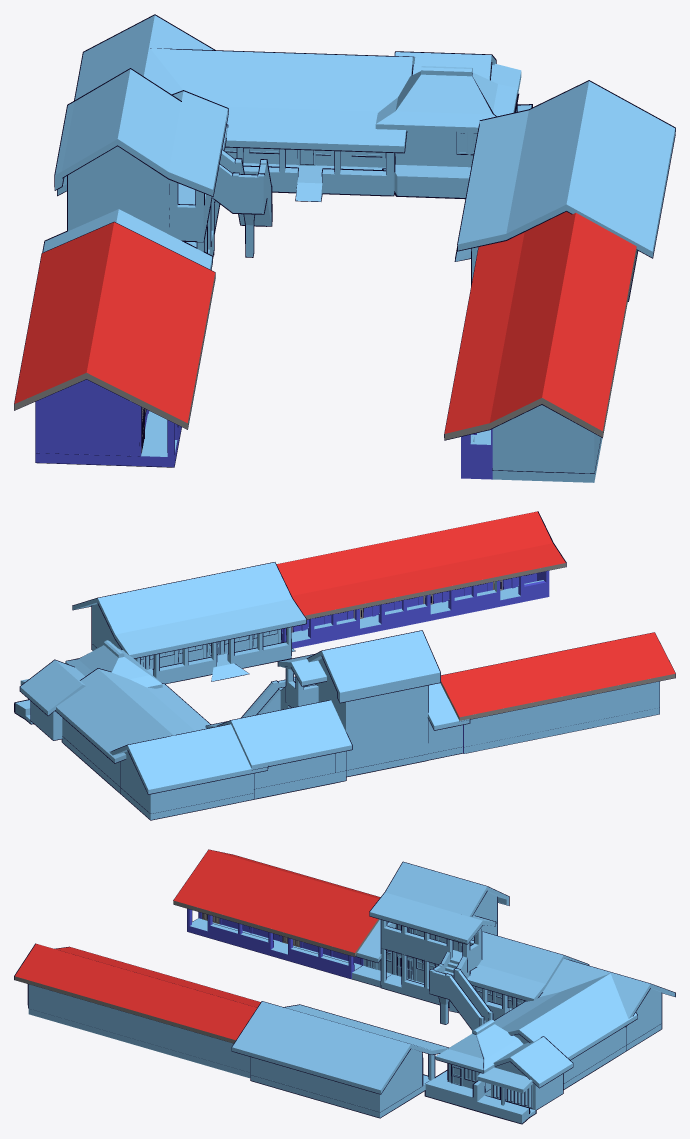
File: Models2.glb
3 renders of one model, top to bottom at view 1: azimuth 30°, elevation 25°; view 2: azimuth 150°, elevation 25°; view 3: azimuth 270°, elevation 25°, orthographic. The views are drawn at different scales.
Parts seen in each view (by area): view 1: GedungA, Cube.006, GedungA1, Cube.001, Cube.004, Cube, Cube.002, Cube.005, Cube.007; view 2: GedungA, GedungA1, Cube.006, Cube.004, Cube.002, Cube.001, Cube.003, Cube.007, Cube, Cube.005; view 3: GedungA, Cube.006, GedungA1, Cube.004, Cube.001, Cube, Cube.003, Cube.007, Cube.002, Cube.005.
Part boxes in pixels (left/top/right/bottom): GedungA: left=444, top=211, right=636, bottom=482; Cube.006: left=14, top=221, right=215, bottom=467; GedungA1: left=454, top=80, right=675, bottom=301; Cube.001: left=150, top=48, right=414, bottom=201; Cube.004: left=54, top=68, right=272, bottom=258; Cube: left=375, top=66, right=532, bottom=199; Cube.002: left=74, top=14, right=215, bottom=100; Cube.005: left=42, top=209, right=212, bottom=269; Cube.007: left=394, top=51, right=521, bottom=93; GedungA: left=276, top=511, right=566, bottom=648; GedungA1: left=72, top=562, right=306, bottom=683; Cube.006: left=440, top=632, right=675, bottom=753; Cube.004: left=241, top=630, right=440, bottom=777; Cube.002: left=107, top=724, right=268, bottom=820; Cube.001: left=55, top=668, right=210, bottom=793; Cube.003: left=205, top=700, right=352, bottom=799; Cube.007: left=19, top=659, right=85, bottom=740; Cube: left=14, top=640, right=162, bottom=724; Cube.005: left=427, top=683, right=470, bottom=760; GedungA: left=14, top=943, right=260, bottom=1078; Cube.006: left=173, top=849, right=380, bottom=979; GedungA1: left=231, top=1001, right=448, bottom=1118; Cube.004: left=369, top=861, right=509, bottom=1030; Cube.001: left=494, top=973, right=637, bottom=1089; Cube: left=424, top=1019, right=536, bottom=1124; Cube.003: left=449, top=931, right=589, bottom=1020; Cube.007: left=477, top=1036, right=573, bottom=1110; Cube.002: left=539, top=959, right=675, bottom=1051; Cube.005: left=352, top=919, right=392, bottom=987.
Size of the model in its own units: 33.02 by 7.63 by 39.37.
